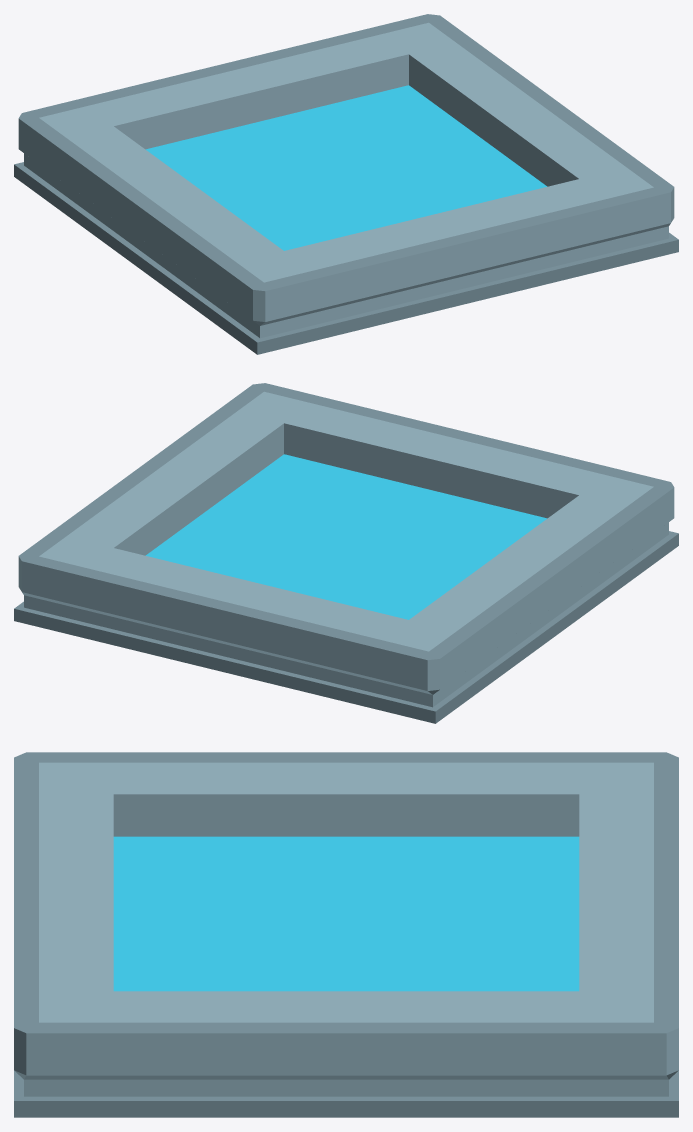
Rendered from fountainSquare.dae.
3 renders of one model, top to bottom at view 1: azimuth 30°, elevation 25°; view 2: azimuth 150°, elevation 25°; view 3: azimuth 270°, elevation 25°, orthographic. The views are drawn at different scales.
Visible parts, largest first — view 1: fountainSquare; view 2: fountainSquare; view 3: fountainSquare.
Boxes of the visible parts, x1,y1,x2,y2 form: fountainSquare: [14, 14, 678, 354]; fountainSquare: [14, 383, 678, 723]; fountainSquare: [14, 752, 678, 1117].
Bounding box in the file's own units: 2 × 0.28 × 2.
